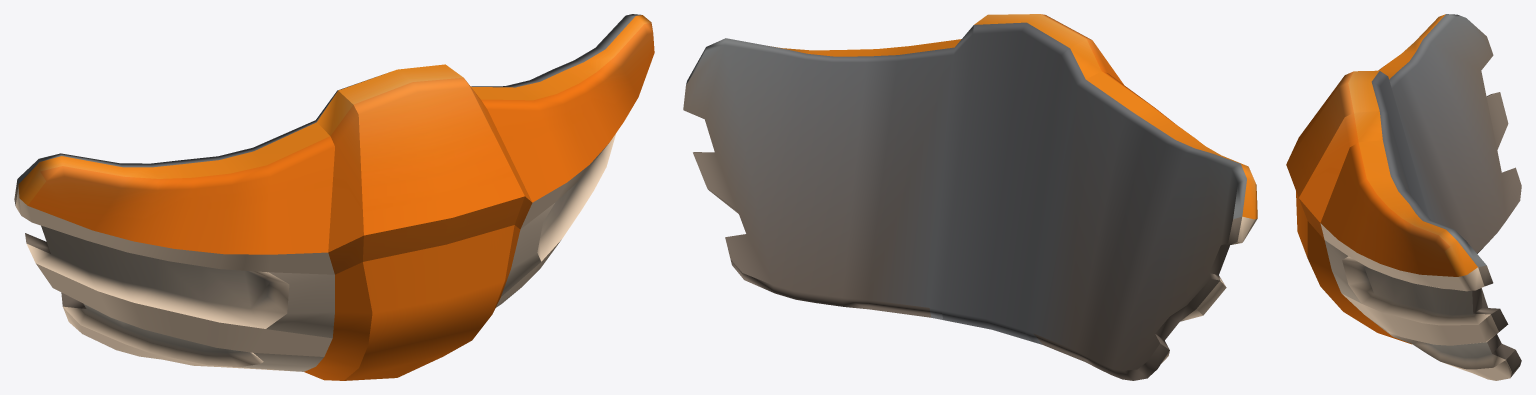
The model's file is Mask_Wrestler_Orange.gltf.
The picture shows the model from 3 angles, left to right: view 1: azimuth 30°, elevation 25°; view 2: azimuth 150°, elevation 25°; view 3: azimuth 270°, elevation 25°; orthographic projection. The views are drawn at different scales.
Parts seen in each view (by area): view 1: Mask_Wrestler_Orange; view 2: Mask_Wrestler_Orange; view 3: Mask_Wrestler_Orange.
Part boxes in pixels (x1=…): Mask_Wrestler_Orange: x1=14, y1=14, x2=654, y2=380; Mask_Wrestler_Orange: x1=683, y1=14, x2=1257, y2=380; Mask_Wrestler_Orange: x1=1286, y1=14, x2=1521, y2=380.
Size of the model in its own units: 0.8341 by 0.4082 by 0.3502.
Materials: 2 (2 with a texture image).
